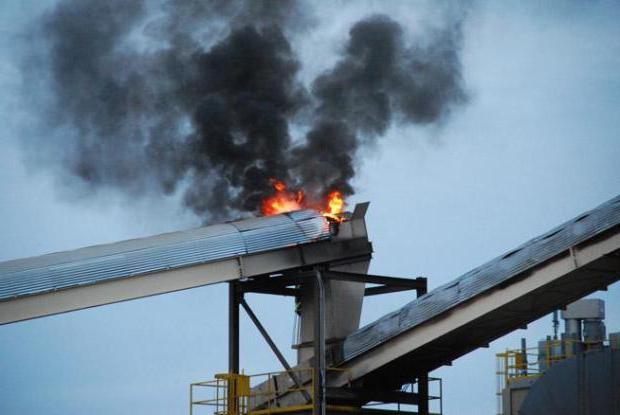fire: (259, 172, 352, 222)
